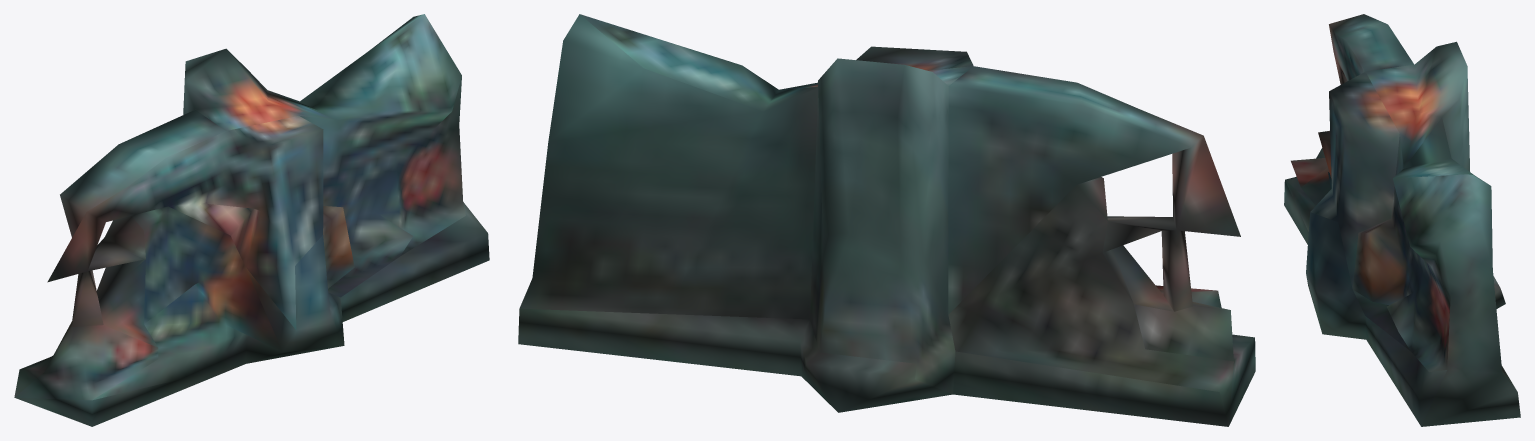
Rendered from Pare_Derecha_Chiquita_2.glb.
3 renders of one model, left to right at view 1: azimuth 30°, elevation 25°; view 2: azimuth 150°, elevation 25°; view 3: azimuth 270°, elevation 25°, orthographic. The views are drawn at different scales.
Visible parts, largest first — view 1: Pare Derecha Chiquita 2; view 2: Pare Derecha Chiquita 2; view 3: Pare Derecha Chiquita 2.
Boxes of the visible parts, left/top/right/bottom form: Pare Derecha Chiquita 2: left=14, top=14, right=489, bottom=426; Pare Derecha Chiquita 2: left=518, top=14, right=1255, bottom=426; Pare Derecha Chiquita 2: left=1284, top=14, right=1520, bottom=426.
Size of the model in its own units: 0.1015 by 0.0501 by 0.043.
Materials: 1 (1 with a texture image).
